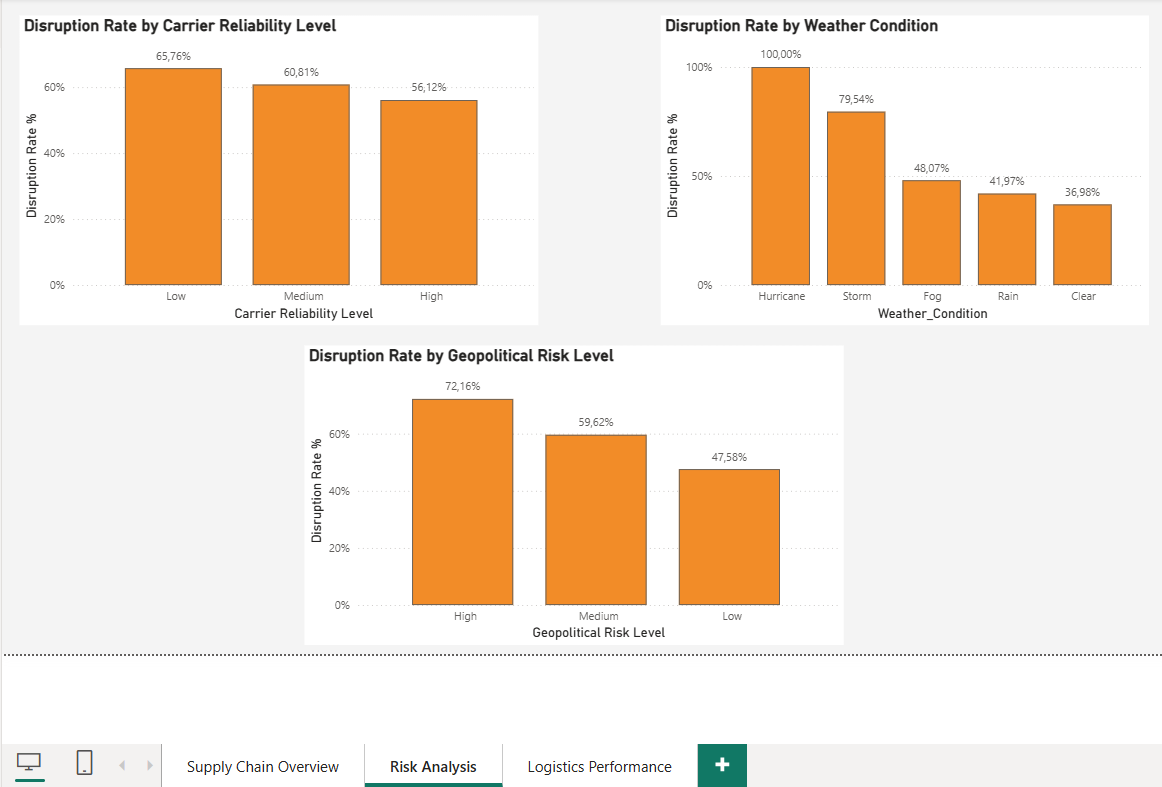

The dashboard page shown, as its layout file describes it:
{"tool":"powerbi","page":{"name":"Risk Analysis","canvas":[1280,720],"ordinal":1},"visuals":[{"type":"clusteredColumnChart","title":"Disruption Rate by Carrier Reliability Level","fields":{"Category":["Shipments.Carrier Reliability Level"],"Y":["Dashboard Measures.Disruption Rate %"]},"box":[19.6,19.6,569.8,339.9],"z":0},{"type":"clusteredColumnChart","title":"Disruption Rate by Weather Condition","fields":{"Category":["Shipments.Weather_Condition"],"Y":["Dashboard Measures.Disruption Rate %"]},"box":[722.7,19.6,535.6,339.9],"z":1000},{"type":"clusteredColumnChart","title":"Disruption Rate by Geopolitical Risk Level","fields":{"Category":["Shipments.Geopolitical Risk Level"],"Y":["Dashboard Measures.Disruption Rate %"]},"box":[332.6,381.5,591.9,328.9],"z":2000}]}

Visuals, with their boxes on the page's 1280x720 design canvas (x1, y1, x2, y2). These are canvas units, not pixel positions in the 1162x787 screenshot, which may show the page scaled, cropped or inside an application window:
"Disruption Rate by Carrier Reliability Level" clusteredColumnChart: bbox(20, 20, 589, 360)
"Disruption Rate by Weather Condition" clusteredColumnChart: bbox(723, 20, 1258, 360)
"Disruption Rate by Geopolitical Risk Level" clusteredColumnChart: bbox(333, 382, 924, 710)
